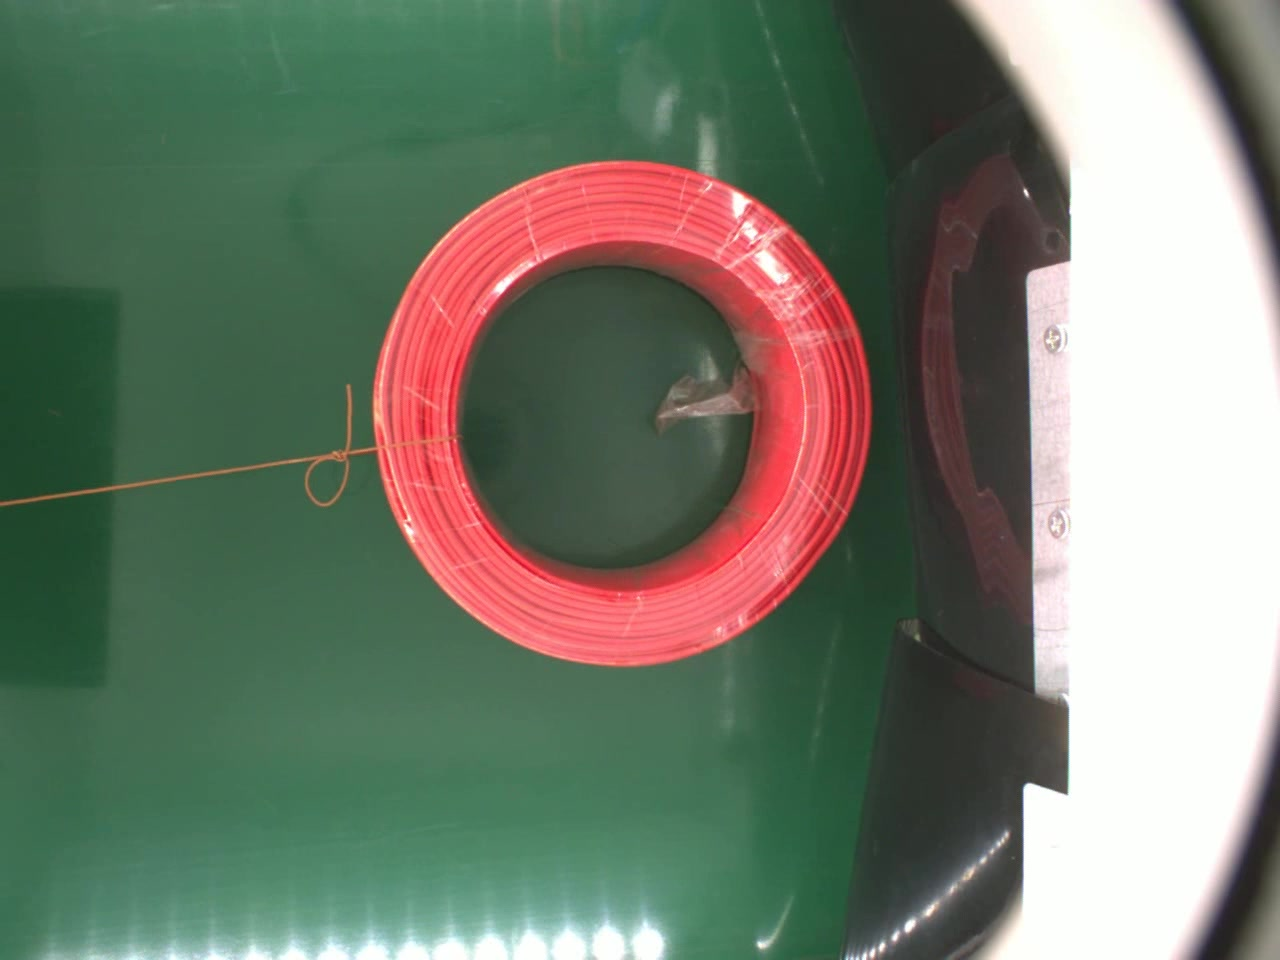red: (372, 158, 876, 675)
